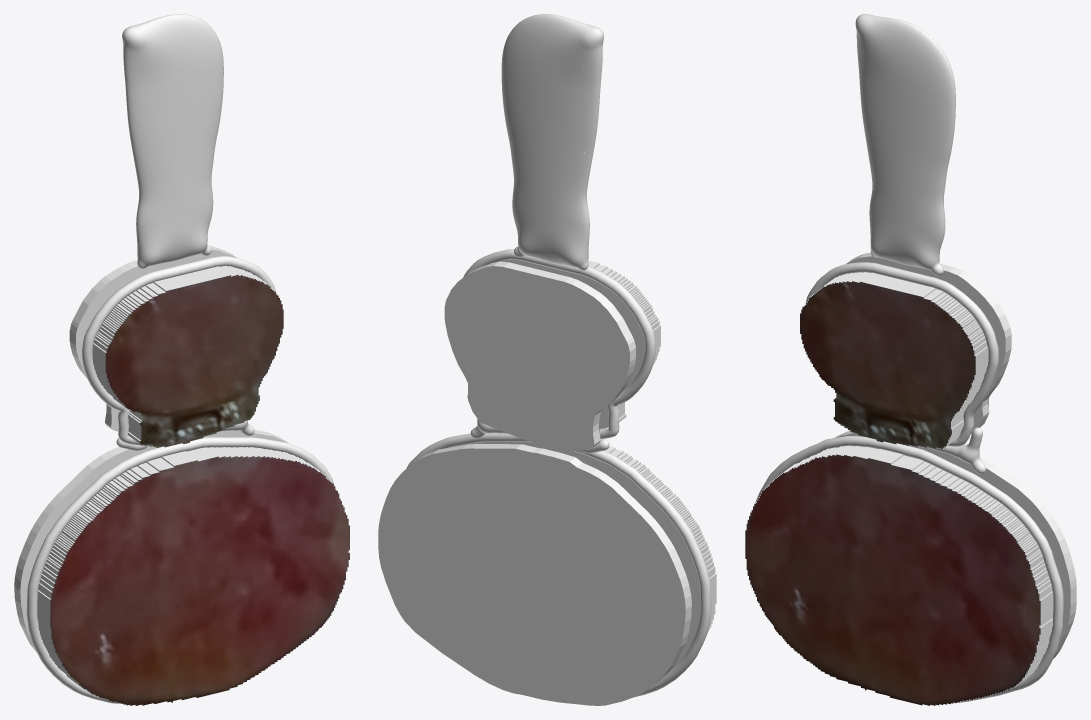
3 views of the same model, side by side, from view 1: azimuth 30°, elevation 25°; view 2: azimuth 150°, elevation 25°; view 3: azimuth 330°, elevation 25° (orthographic). The views are drawn at different scales.
Visible parts, largest first — view 1: joya; view 2: joya; view 3: joya.
Part boxes in pixels (x1=…): joya: x1=14, y1=14, x2=349, y2=705; joya: x1=378, y1=14, x2=716, y2=705; joya: x1=745, y1=14, x2=1076, y2=705.
Size of the model in its own units: 0.0178 by 0.0365 by 0.00325.
Materials: 3 (1 with a texture image).
